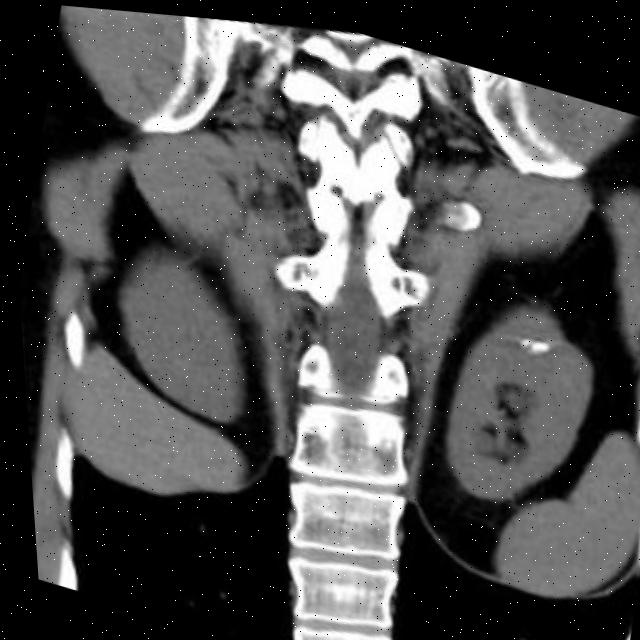Tas_Var: (522, 323, 546, 349), (511, 321, 528, 342)
